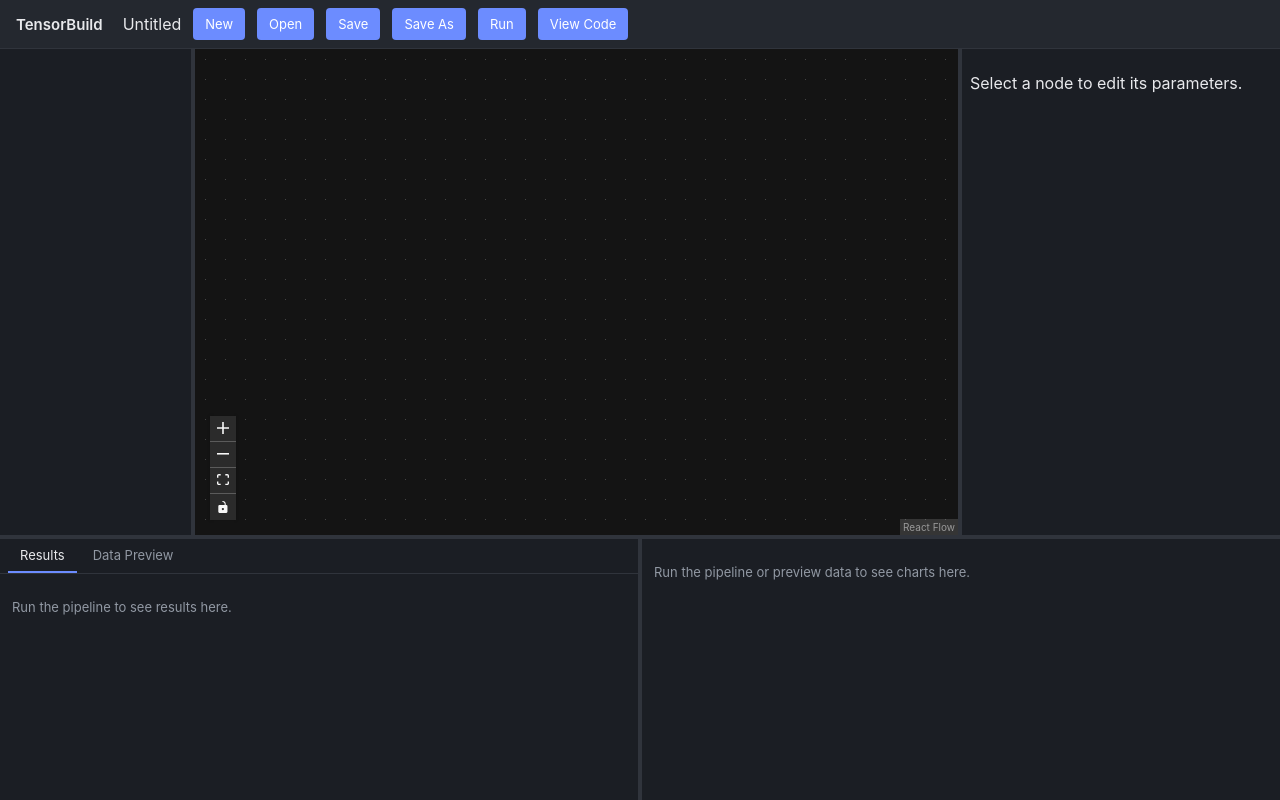
Test: App › resets activeRunId when a new run starts, so a stale training section from a prior async run does not persist
What coordinates should you click on to do the following:
click the button "Run"
I would click on:
 (502, 24)
Its box is [478,8,526,40].
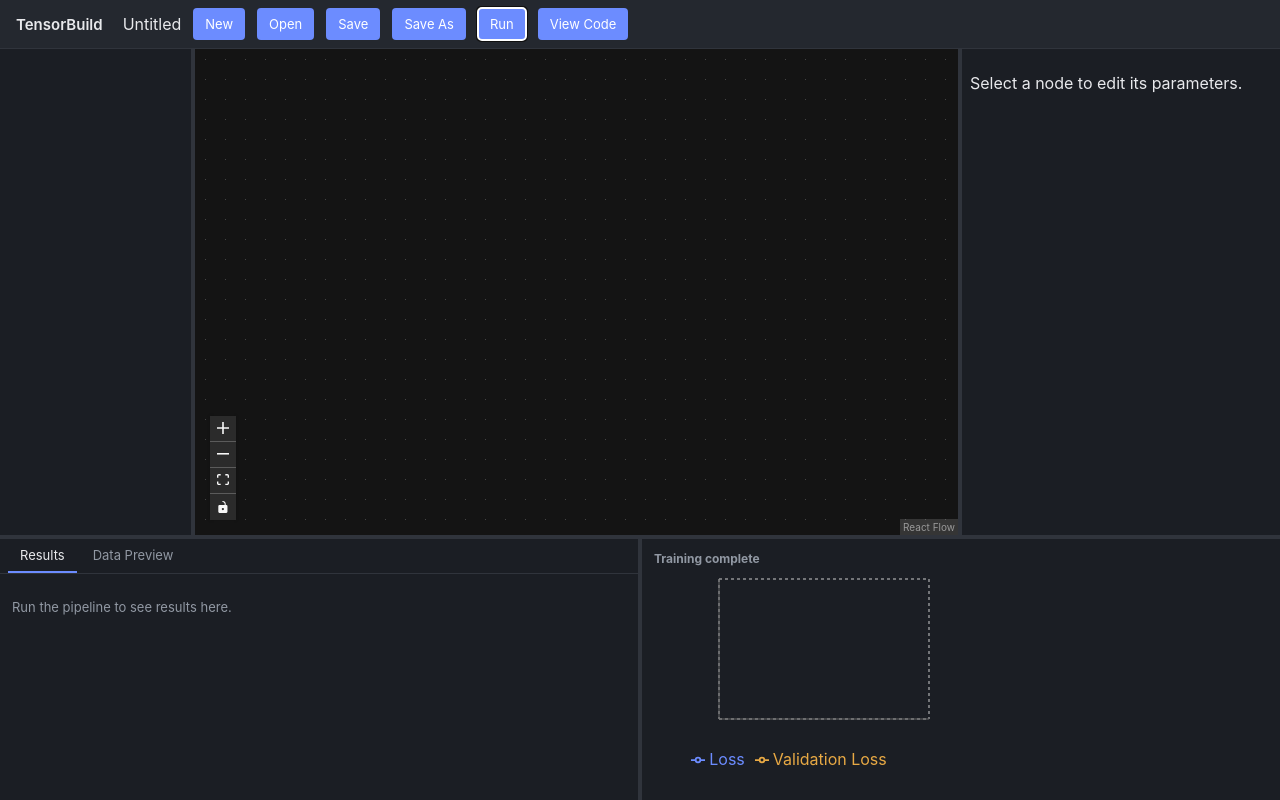
expect the heading "Training complete" is shown: met, box [654,550,760,566]
What coordinates should you click on to do the following:
click the button "Run"
I would click on:
 (502, 24)
Its box is [478,8,526,40].
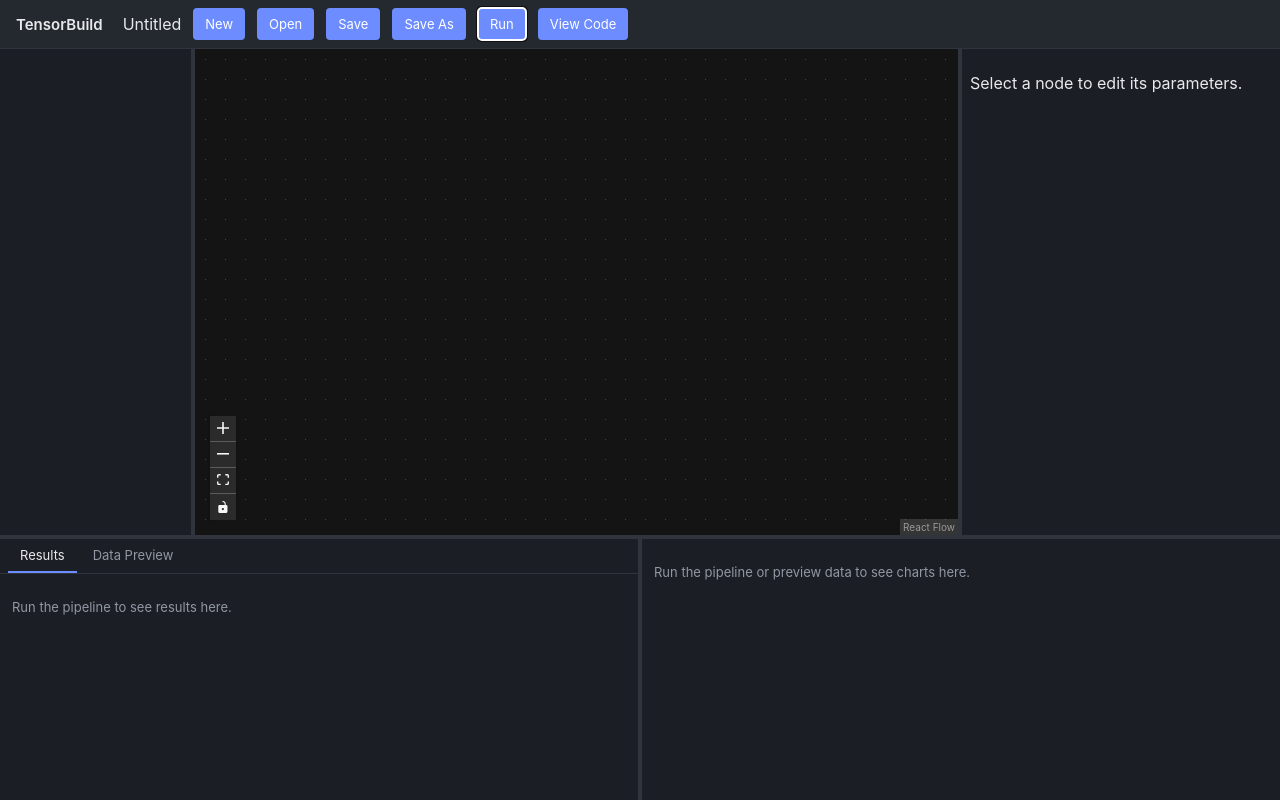
expect the heading "Training complete" is gone: met
